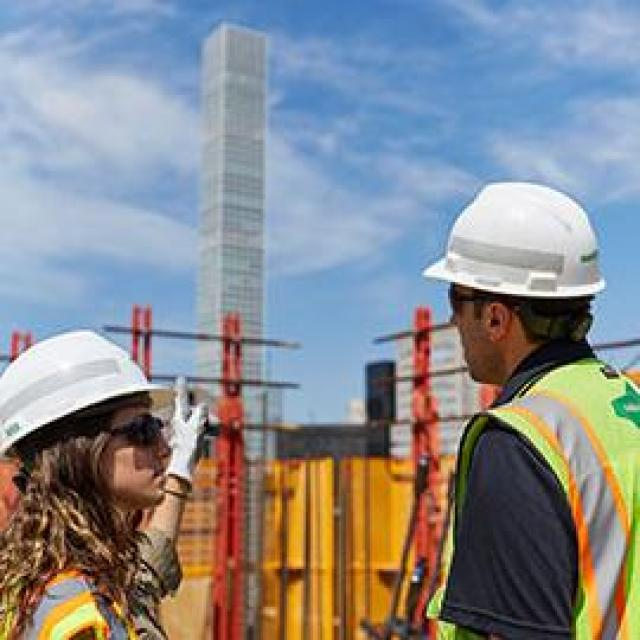Reflective-Jacket: (427, 365, 635, 638), (0, 557, 114, 640)
Safety-Helmet: (422, 176, 611, 310), (0, 322, 175, 466)
